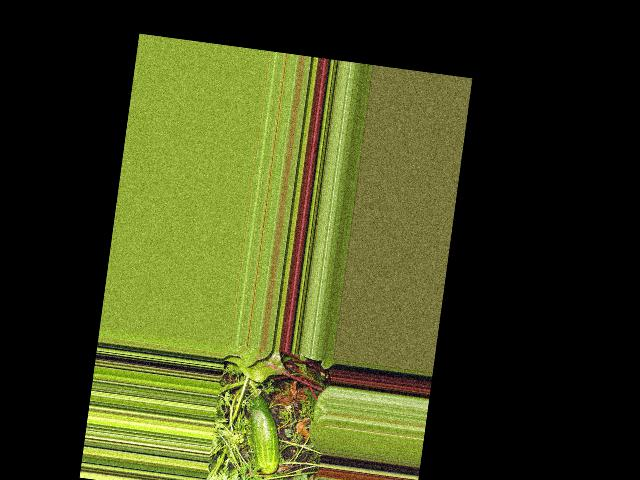cucumber: (240, 393, 287, 473)
